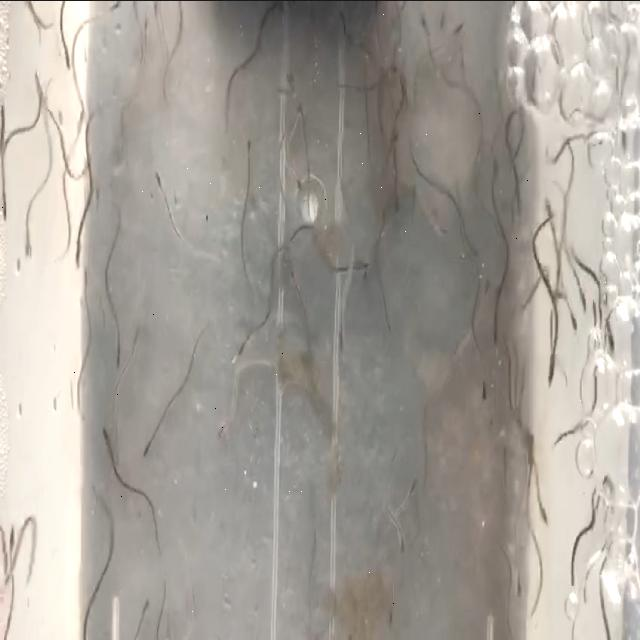active_glass_eel: (228, 134, 254, 186), (350, 248, 370, 298), (578, 259, 596, 311), (209, 408, 229, 454), (140, 423, 156, 480), (293, 144, 307, 204), (540, 347, 560, 389), (404, 468, 422, 510), (568, 292, 584, 338), (98, 419, 114, 463), (138, 0, 154, 44), (230, 338, 248, 376), (329, 322, 348, 357), (472, 371, 491, 406), (532, 498, 550, 534), (71, 232, 85, 278), (150, 154, 166, 194), (408, 19, 428, 51), (449, 15, 466, 52), (381, 600, 401, 630), (110, 336, 127, 370), (34, 57, 50, 93), (89, 488, 106, 520), (482, 157, 498, 191), (491, 322, 504, 362), (80, 260, 92, 302), (6, 514, 16, 556), (61, 46, 75, 74), (438, 7, 454, 30), (288, 266, 302, 289), (0, 192, 8, 232), (392, 521, 402, 553), (143, 590, 153, 618), (0, 103, 8, 132)
